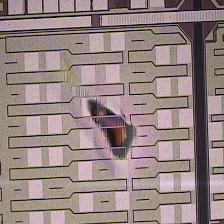COATING BAD: (56, 63, 148, 176)
